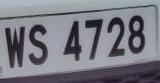2: (105, 12, 128, 61)
4: (61, 14, 84, 68)
7: (83, 14, 105, 64)
8: (126, 11, 150, 59)
S: (26, 19, 52, 72)
W: (3, 19, 27, 75)
